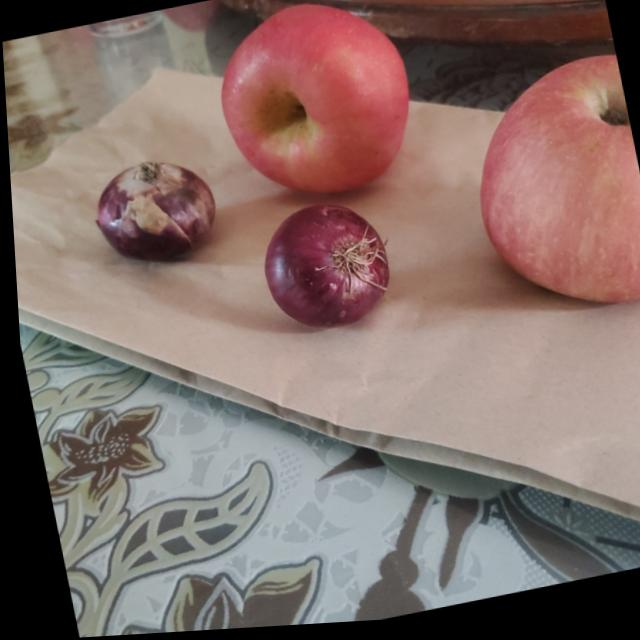apple: (450, 55, 640, 338), (200, 0, 430, 218)
onion: (250, 196, 395, 341), (85, 149, 225, 282)
